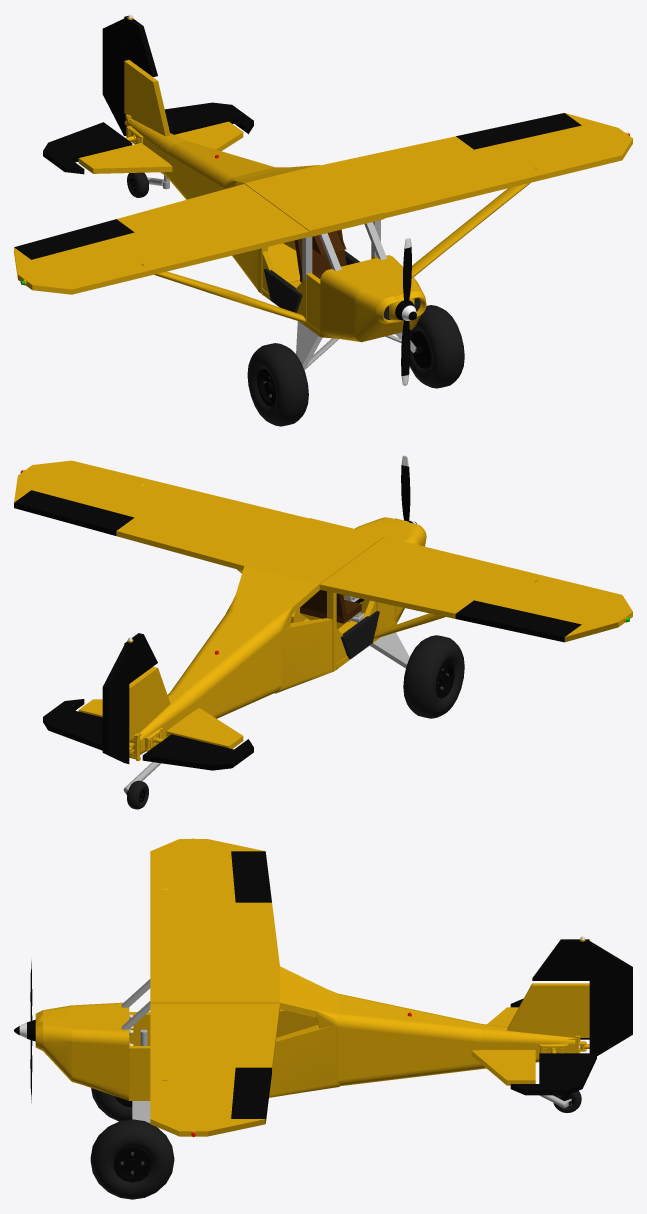
The model's file is Bush Plane_export.obj.
The picture shows the model from 3 angles, top to bottom: view 1: azimuth 30°, elevation 25°; view 2: azimuth 150°, elevation 25°; view 3: azimuth 270°, elevation 25°; orthographic projection.
Visible parts, largest first — view 1: Mesh_36, Mesh_76, Mesh_0, TireNormal_23, Mesh_9, Mesh_17, TireNormal_128, Mesh_59, Mesh_55, Mesh_2, Mesh_52, Control Surface_77 (+21 smaller); view 2: Mesh_36, Mesh_76, Mesh_17, TireNormal_23, Mesh_9, Mesh_107, Mesh_55, Control Surface_37, Control Surface_77, Mesh_16, Mesh_59, Mesh_52 (+19 smaller); view 3: Mesh_76, Mesh_36, Mesh_17, Mesh_0, TireNormal_128, Mesh_55, Mesh_106, Mesh_59, Mesh_9, Control Surface_77, Control Surface_37, Mesh_118 (+15 smaller).
Part boxes in pixels (x1,y1,x2,y2): Mesh_36: (32,184,309,294); Mesh_76: (320,125,622,218); Mesh_0: (320,255,414,341); TireNormal_23: (247,343,308,426); Mesh_9: (259,175,380,228); Mesh_17: (168,141,274,199); TireNormal_128: (409,305,464,388); Mesh_59: (124,60,170,136); Mesh_55: (102,18,128,135); Mesh_2: (355,278,423,342); Mesh_52: (78,143,172,173); Control Surface_77: (456,113,581,149); Mesh_36: (319,537,621,624); Mesh_76: (31,460,308,570); Mesh_17: (171,610,281,718); TireNormal_23: (403,635,464,718); Mesh_9: (259,520,380,573); Mesh_107: (274,618,332,693); Mesh_55: (102,645,129,763); Control Surface_37: (455,600,581,642); Control Surface_77: (14,490,134,535); Mesh_16: (236,565,319,613); Mesh_59: (129,666,170,740); Mesh_52: (166,708,243,748); Mesh_76: (150,1003,279,1118); Mesh_36: (150,851,279,966); Mesh_17: (337,993,481,1086); Mesh_0: (71,1002,129,1100); TireNormal_128: (90,1119,174,1199); Mesh_55: (589,941,632,1055); Mesh_106: (269,1025,339,1097); Mesh_59: (507,983,589,1037); Mesh_9: (157,966,251,1003); Control Surface_77: (231,1067,271,1122); Control Surface_37: (231,851,271,902); Mesh_118: (471,1050,535,1085).
Bounding box in the file's own units: 12.15 × 4.27 × 10.74.
1 material, 1 textured.
